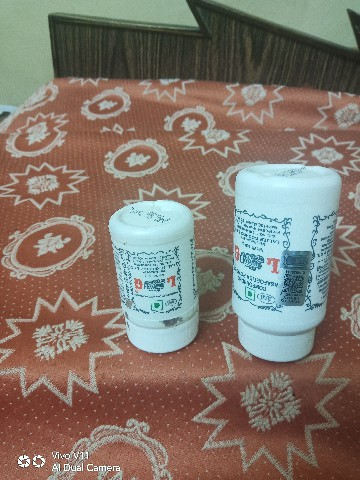lgasafoetidapowder large: (227, 145, 344, 377)
lgasafoetidapowder small: (91, 174, 202, 363)
